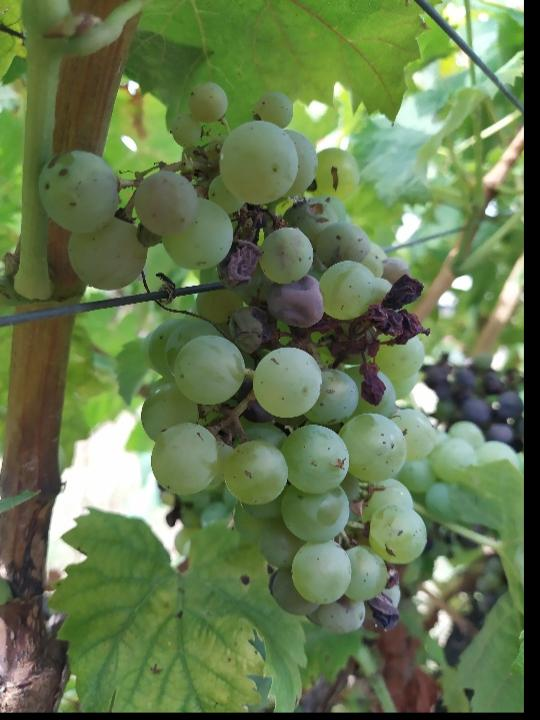grape: (34, 79, 435, 638)
